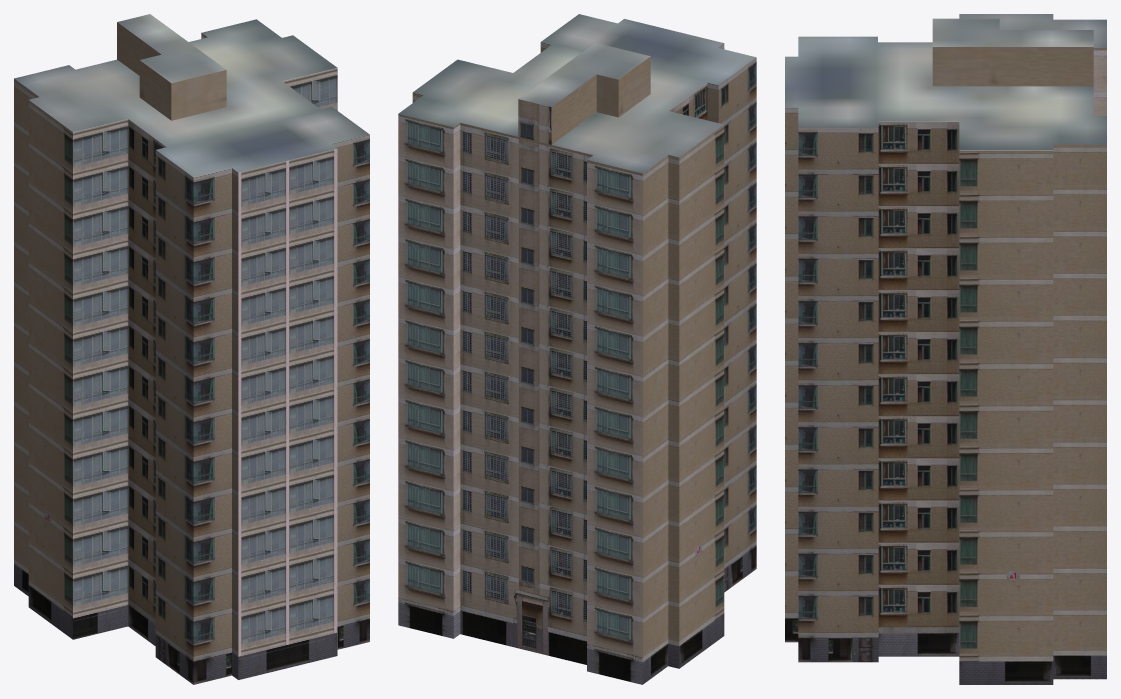
File: jsgy_a1.gltf
The picture shows the model from 3 angles, left to right: view 1: azimuth 30°, elevation 25°; view 2: azimuth 150°, elevation 25°; view 3: azimuth 270°, elevation 25°; orthographic projection. The views are drawn at different scales.
Visible parts, largest first — view 1: Model#7; view 2: Model#7; view 3: Model#7.
Boxes of the visible parts, x1,y1,x2,y2 form: Model#7: (14, 14, 369, 684); Model#7: (398, 14, 756, 684); Model#7: (785, 14, 1106, 684).
Size of the model in its own units: 0.024 by 0.0472 by 0.024.
Materials: 4 (4 with a texture image).
